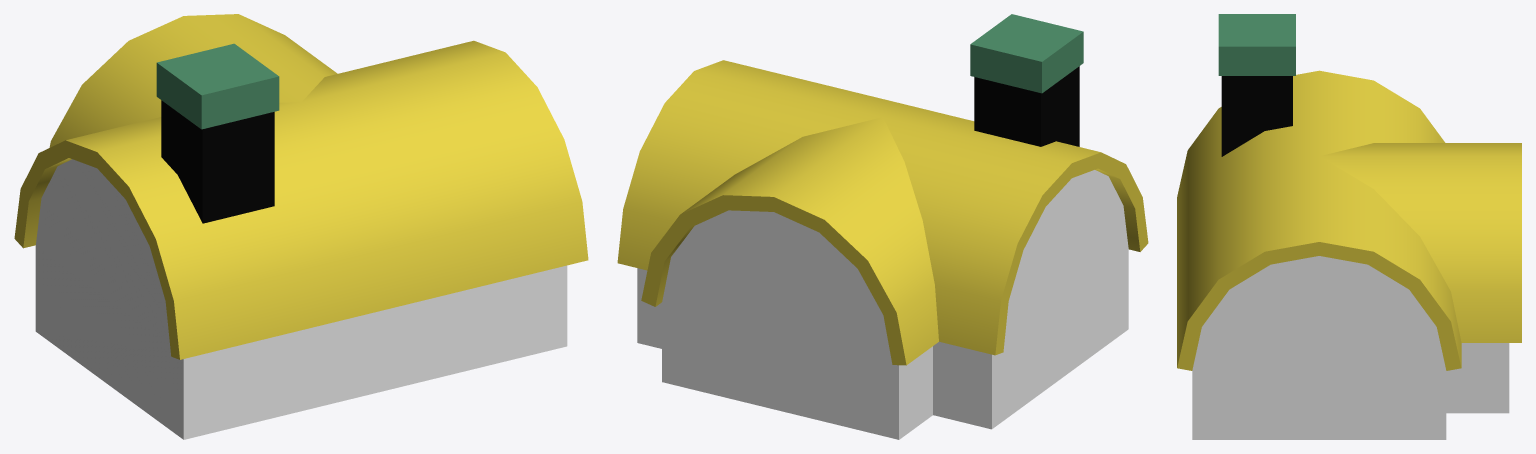
File: Map-House-R-Lv2.003.fbx
3 views of the same model, side by side, from view 1: azimuth 30°, elevation 25°; view 2: azimuth 150°, elevation 25°; view 3: azimuth 270°, elevation 25° (orthographic). The views are drawn at different scales.
Parts seen in each view (by area): view 1: Map-House-R-Lv2.003; view 2: Map-House-R-Lv2.003; view 3: Map-House-R-Lv2.003.
Boxes of the visible parts, <box> form: Map-House-R-Lv2.003: <box>14,14,588,439</box>; Map-House-R-Lv2.003: <box>617,14,1148,439</box>; Map-House-R-Lv2.003: <box>1177,14,1521,439</box>.
Size of the model in its own units: 1.91 by 1.45 by 1.63.
